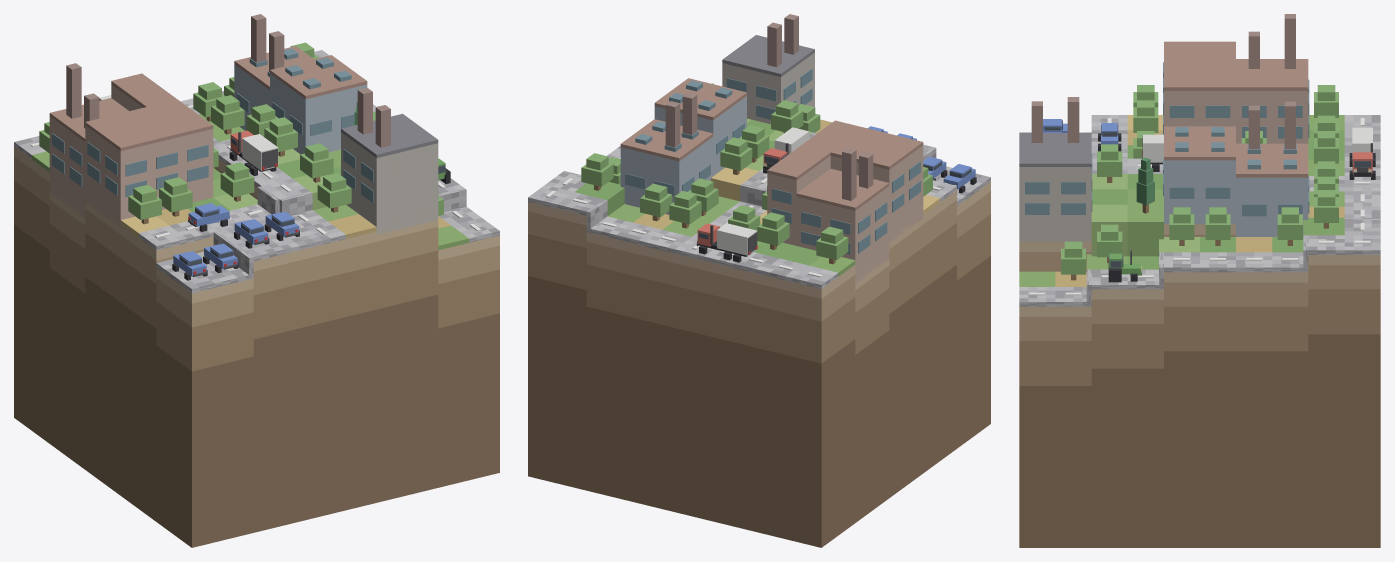
The model's file is block_10_permeable_35.glb.
3 renders of one model, left to right at view 1: azimuth 30°, elevation 25°; view 2: azimuth 150°, elevation 25°; view 3: azimuth 270°, elevation 25°, orthographic. The views are drawn at different scales.
Visible parts, largest first — view 1: Patch_LowerLeft_b10_PP, Factories_LowerLeft_b10_PP, Roads_LowerLeft_b10_PP, Ground_LowerLeft_b10_PP, Parking_LowerLeft_b10_PP, Asset_Truck.003_PP, Asset_Tree_Round.049_PP, Asset_Tree_Round.061_PP, Asset_Tree_Round.057_PP, Asset_Tree_Round.047_PP, Asset_Tree_Round.036_PP, Asset_Tree_Round.048_PP (+8 smaller); view 2: Patch_LowerLeft_b10_PP, Factories_LowerLeft_b10_PP, Roads_LowerLeft_b10_PP, Ground_LowerLeft_b10_PP, Asset_Truck.002_PP, Asset_Truck.003_PP, Asset_Tree_Round.029_PP, Asset_Tree_Round.024_PP, Asset_Tree_Round.042_PP, Asset_Tree_Round.025_PP, Asset_Tree_Round.027_PP, Asset_Tree_Round.028_PP (+7 smaller); view 3: Patch_LowerLeft_b10_PP, Factories_LowerLeft_b10_PP, Roads_LowerLeft_b10_PP, Ground_LowerLeft_b10_PP, Asset_Truck.002_PP, Asset_Tree_Round.062_PP, RoadLines_LowerLeft_b10_PP, Asset_Tree_Round.037_PP, Asset_Tree_Round.043_PP, Asset_Tree_Round.045_PP, Asset_Tree_Round.057_PP, Asset_Tree_Round.029_PP (+8 smaller).
Part boxes in pixels (<box>): Patch_LowerLeft_b10_PP: <box>14,146,499,547</box>; Factories_LowerLeft_b10_PP: <box>49,14,438,234</box>; Roads_LowerLeft_b10_PP: <box>14,50,499,250</box>; Ground_LowerLeft_b10_PP: <box>32,114,468,250</box>; Parking_LowerLeft_b10_PP: <box>156,219,314,293</box>; Asset_Truck.003_PP: <box>229,130,278,176</box>; Asset_Tree_Round.049_PP: <box>220,162,254,201</box>; Asset_Tree_Round.061_PP: <box>317,173,351,212</box>; Asset_Tree_Round.057_PP: <box>300,143,333,182</box>; Asset_Tree_Round.047_PP: <box>128,185,161,224</box>; Asset_Tree_Round.036_PP: <box>211,95,244,134</box>; Asset_Tree_Round.048_PP: <box>159,177,192,216</box>; Patch_LowerLeft_b10_PP: <box>528,181,990,547</box>; Factories_LowerLeft_b10_PP: <box>620,14,923,283</box>; Roads_LowerLeft_b10_PP: <box>528,132,956,289</box>; Ground_LowerLeft_b10_PP: <box>575,118,939,276</box>; Asset_Truck.002_PP: <box>696,223,757,262</box>; Asset_Truck.003_PP: <box>763,127,809,173</box>; Asset_Tree_Round.029_PP: <box>581,153,613,190</box>; Asset_Tree_Round.024_PP: <box>816,226,848,264</box>; Asset_Tree_Round.042_PP: <box>720,137,752,174</box>; Asset_Tree_Round.025_PP: <box>757,212,789,249</box>; Asset_Tree_Round.027_PP: <box>669,190,701,228</box>; Asset_Tree_Round.028_PP: <box>640,183,672,221</box>; Patch_LowerLeft_b10_PP: <box>1019,224,1380,547</box>; Factories_LowerLeft_b10_PP: <box>1019,14,1309,241</box>; Roads_LowerLeft_b10_PP: <box>1019,115,1380,306</box>; Ground_LowerLeft_b10_PP: <box>1019,115,1344,286</box>; Asset_Truck.002_PP: <box>1349,127,1375,179</box>; Asset_Tree_Round.062_PP: <box>1061,241,1085,280</box>; RoadLines_LowerLeft_b10_PP: <box>1029,118,1370,295</box>; Asset_Tree_Round.037_PP: <box>1277,207,1302,245</box>; Asset_Tree_Round.043_PP: <box>1205,207,1230,245</box>; Asset_Tree_Round.045_PP: <box>1169,207,1194,245</box>; Asset_Tree_Round.057_PP: <box>1097,144,1122,182</box>; Asset_Tree_Round.029_PP: <box>1314,190,1338,228</box>.
Bounding box in the file's own units: 9.52 × 11.46 × 9.5.
